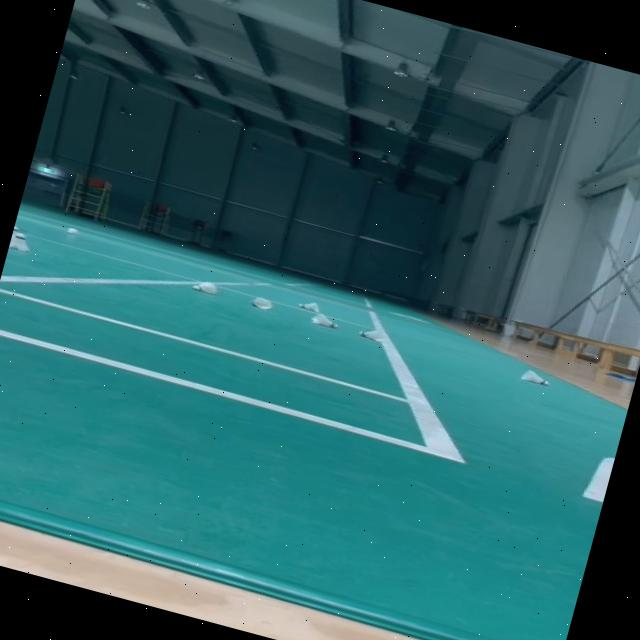Shuttle: (519, 366, 552, 388), (310, 310, 340, 330), (190, 276, 220, 296), (8, 230, 34, 253), (356, 324, 386, 343), (248, 294, 274, 312), (298, 298, 320, 312), (10, 224, 21, 243), (66, 226, 80, 236)
